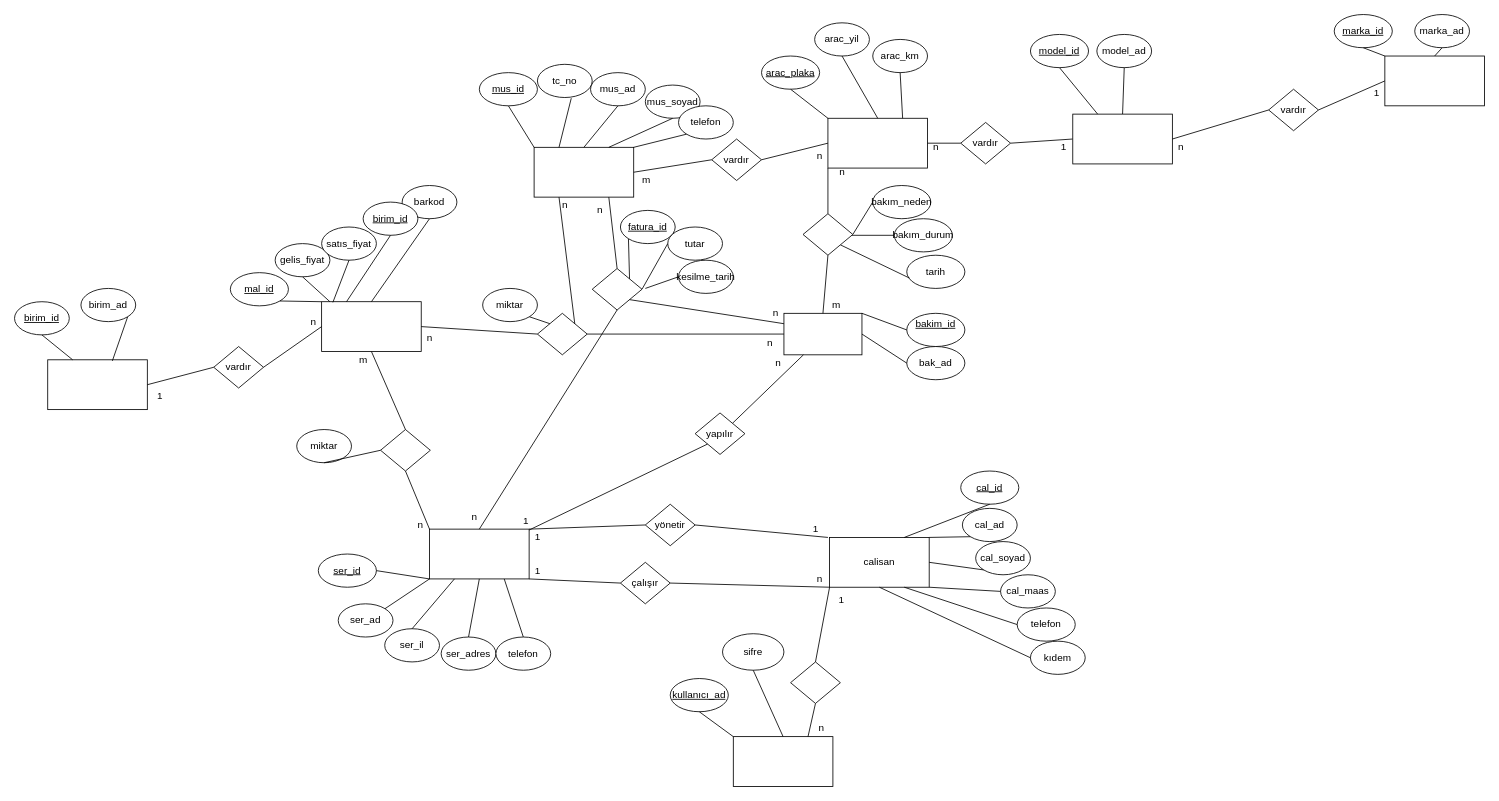
Image size: 1499x801. Some labels were removed from this diagram. The centre of each missing label's shape, as x and y in pixels:
araç: (877,142)
bakım: (822,333)
birim: (97,384)
bulunur: (405,450)
fatura: (616,289)
girer: (827,234)
kullanıcı: (782,761)
malzeme: (371,326)
marka: (1434,80)
model: (1122,138)
müşteri ve aracsahibi: (583,171)
olur: (815,682)
servis: (479,553)
tüketir: (562,333)
